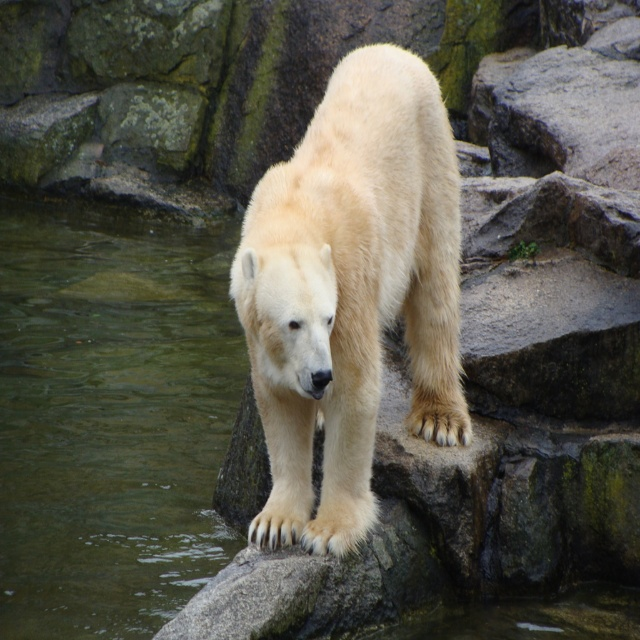Polar bear: (226, 38, 476, 559)
